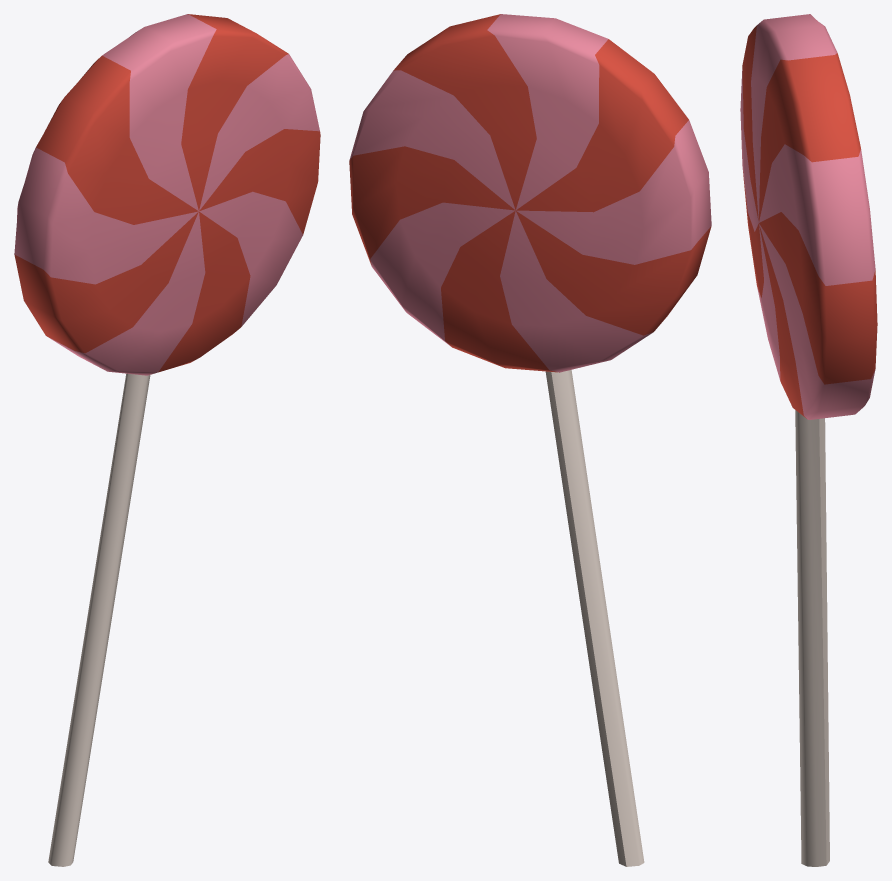
File: Objet3_01.glb
The picture shows the model from 3 angles, left to right: view 1: azimuth 30°, elevation 25°; view 2: azimuth 150°, elevation 25°; view 3: azimuth 270°, elevation 25°; orthographic projection. The views are drawn at different scales.
Parts seen in each view (by area): view 1: Candy_8; view 2: Candy_8; view 3: Candy_8.
Boxes of the visible parts, box(x1,y1,x2,y2) form: Candy_8: box(14, 14, 320, 866); Candy_8: box(349, 14, 711, 866); Candy_8: box(740, 14, 877, 866).
Size of the model in its own units: 207 by 499 by 70.28.
1 material, 1 textured.
